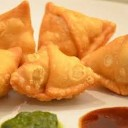samosa: (13, 36, 100, 99), (39, 2, 117, 53), (87, 33, 128, 97), (1, 1, 36, 52)
